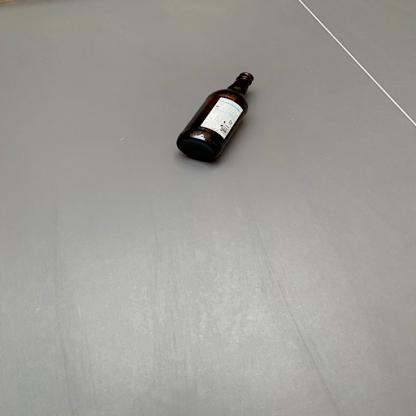trash: (175, 71, 261, 161)
